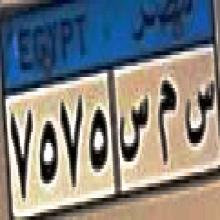5: (38, 113, 59, 194), (87, 101, 109, 176)
7: (59, 89, 85, 189), (9, 108, 36, 201)
meem: (155, 68, 179, 174)
seen: (118, 92, 152, 163), (185, 83, 216, 158)
